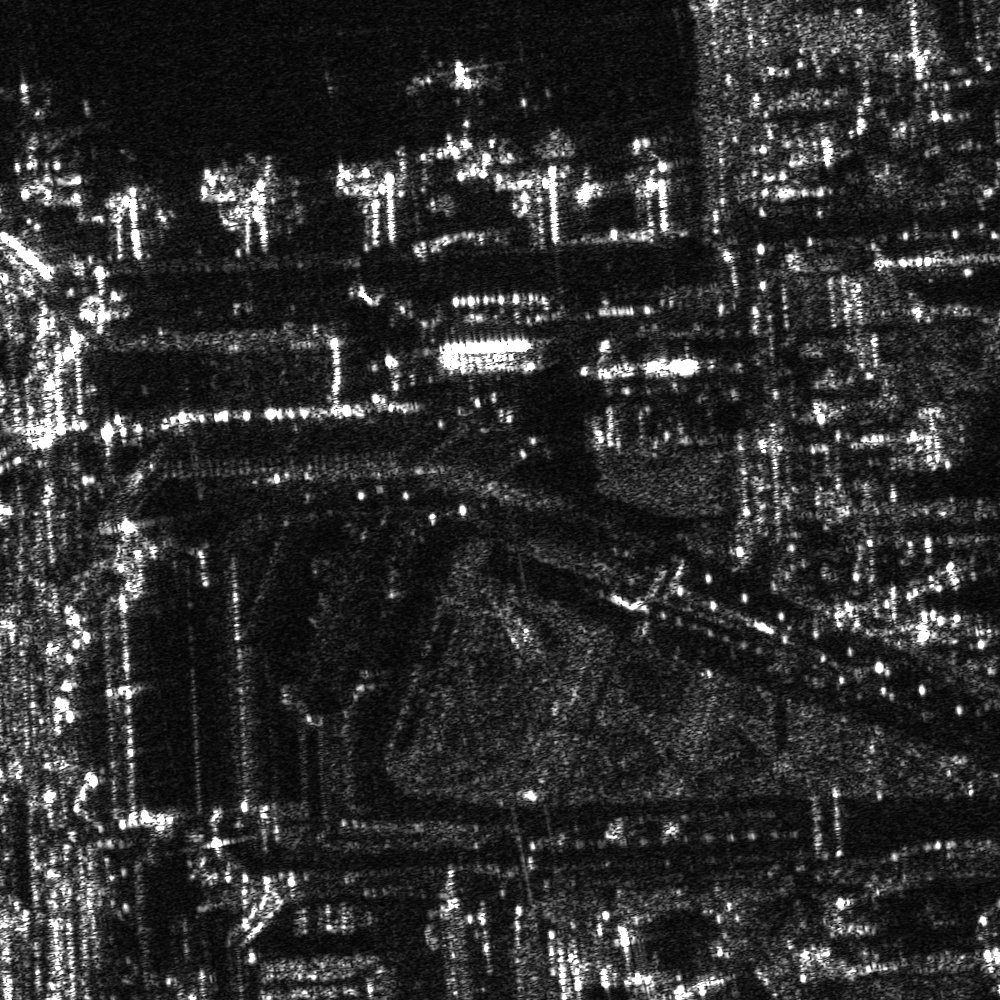Boeing787: (413, 45, 496, 110)
